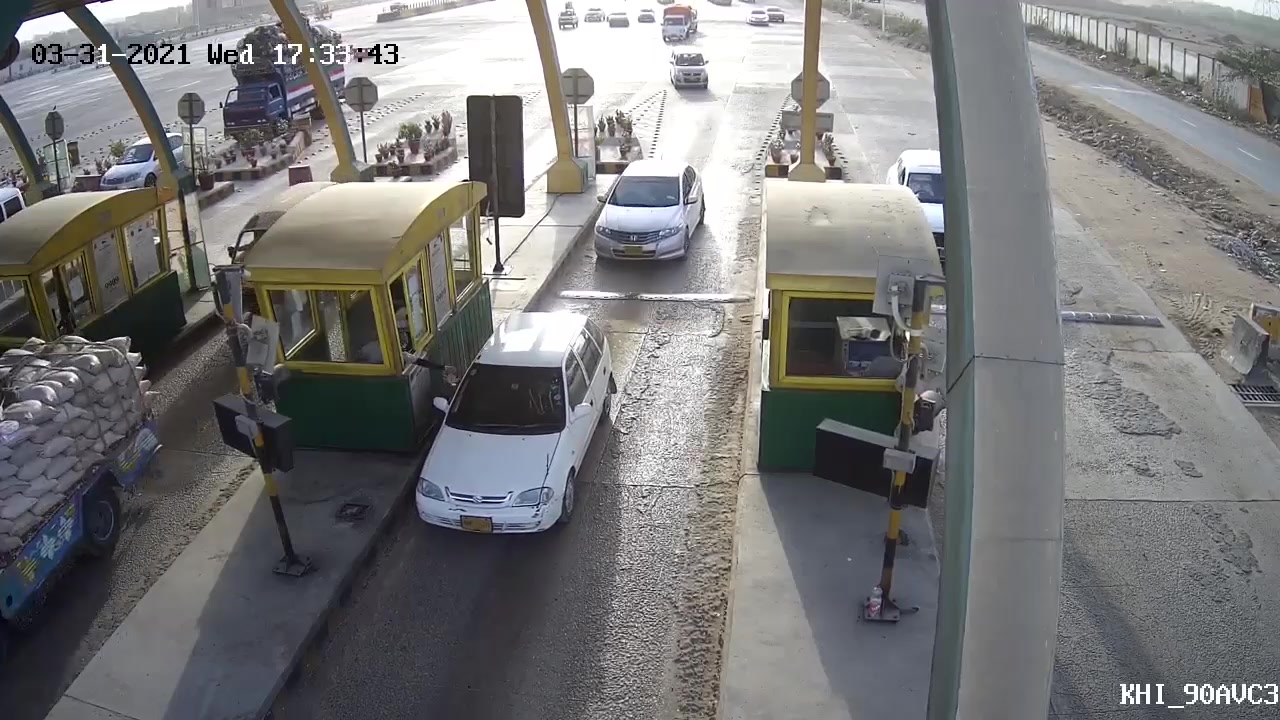F1: (396, 309, 630, 542)
